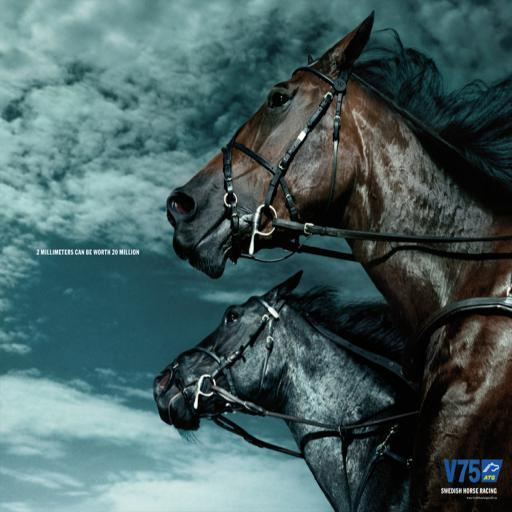Horse: (166, 12, 512, 512), (150, 270, 422, 512)
